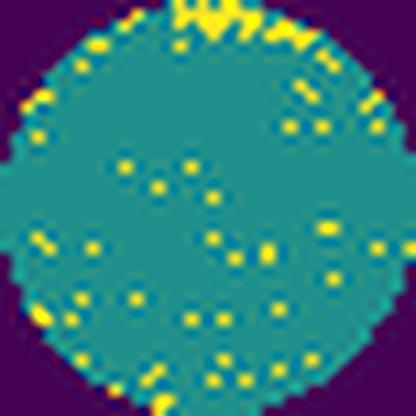Edge-Loc: (168, 0, 259, 41), (262, 13, 329, 55)
